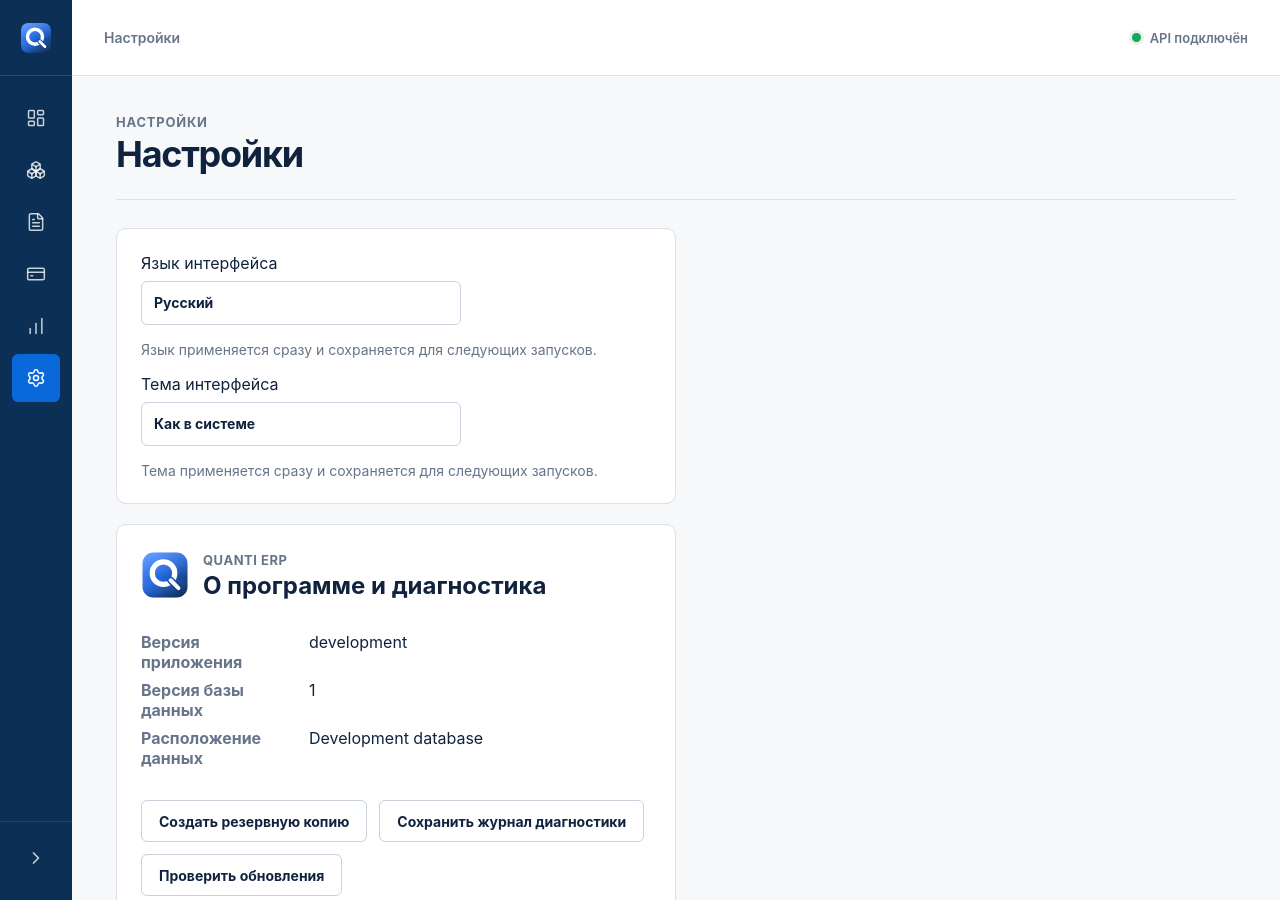
Test: application settings › switches the complete application shell to English and persists it
Select "Английский" in the dropdown labelled "Язык интерфейса" at [301, 303], box [141, 281, 461, 325]
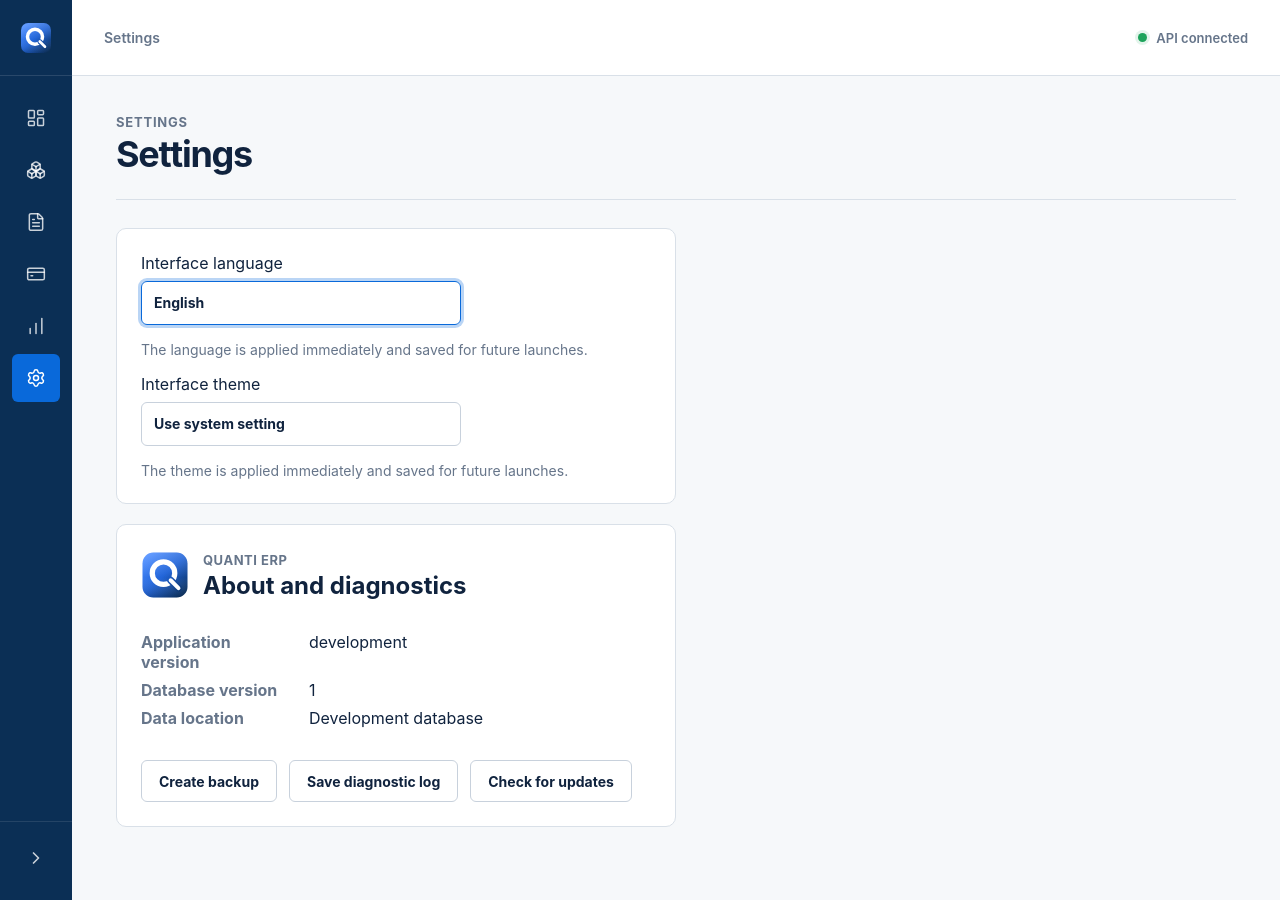
expect the heading "Settings" is shown: met, box [116, 132, 252, 176]
expect the 1st link named "Dashboard" is shown: met, box [26, 108, 46, 128]
Click the 3rd link named "Documents".
click(36, 222)  # box [26, 212, 46, 232]
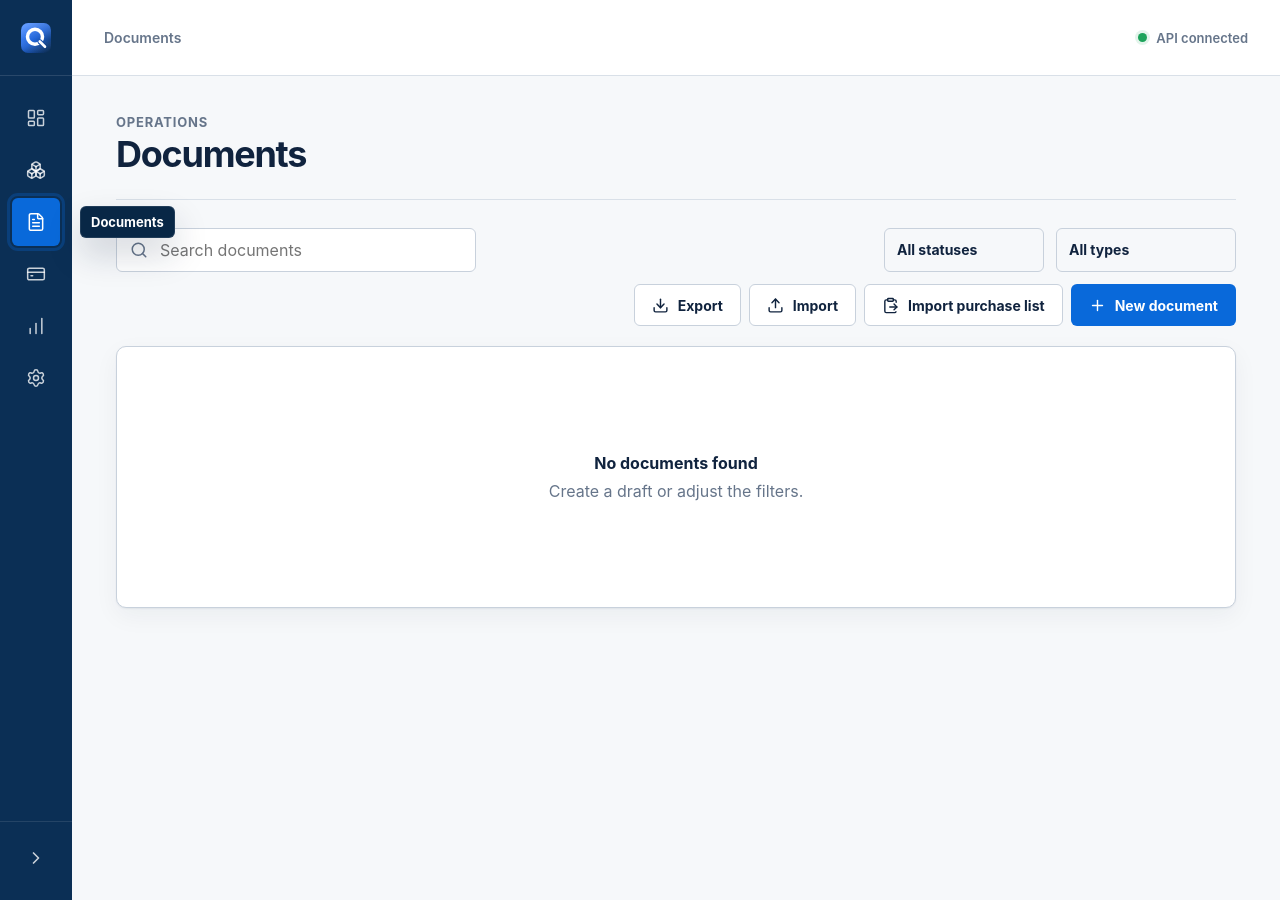
expect the heading "Documents" is shown: met, box [116, 132, 306, 176]
expect the button "New document" is shown: met, box [1071, 284, 1236, 326]
expect the dropdown named "Status filter" is shown: met, box [884, 228, 1044, 272]
